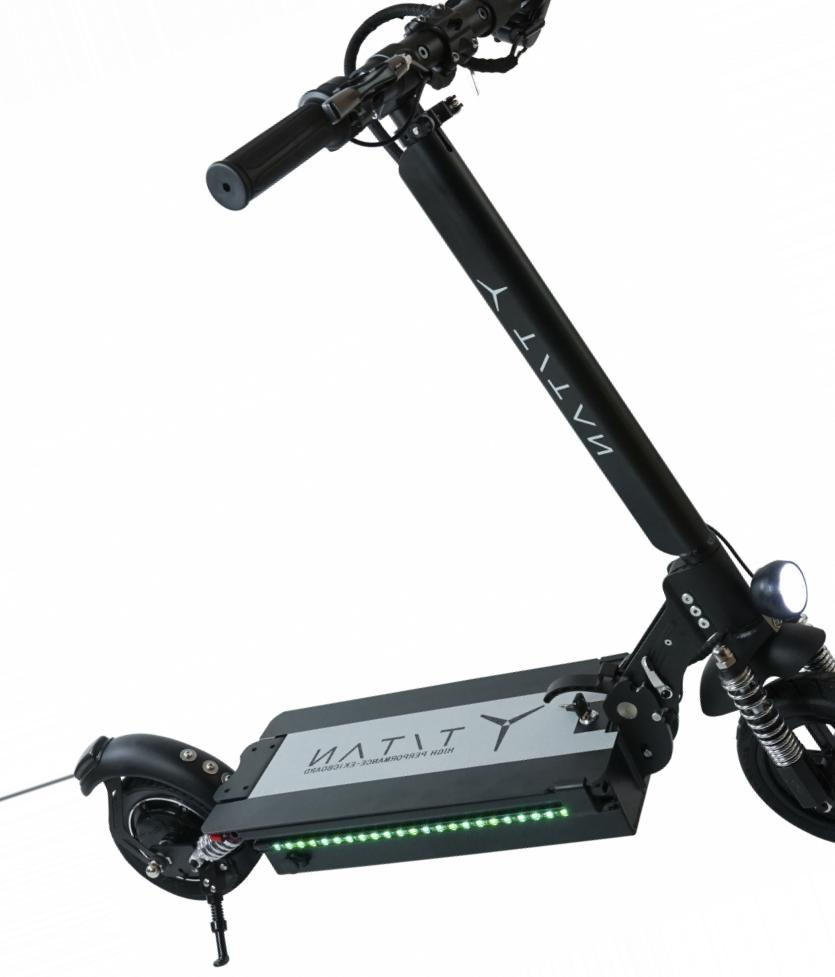scooter: (73, 1, 835, 901)
